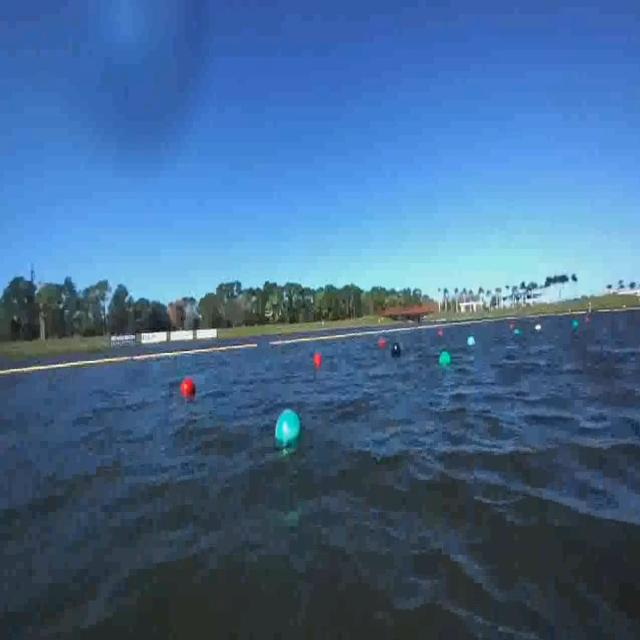green-buoy: (275, 404, 300, 456)
red-buoy: (183, 375, 199, 399)
